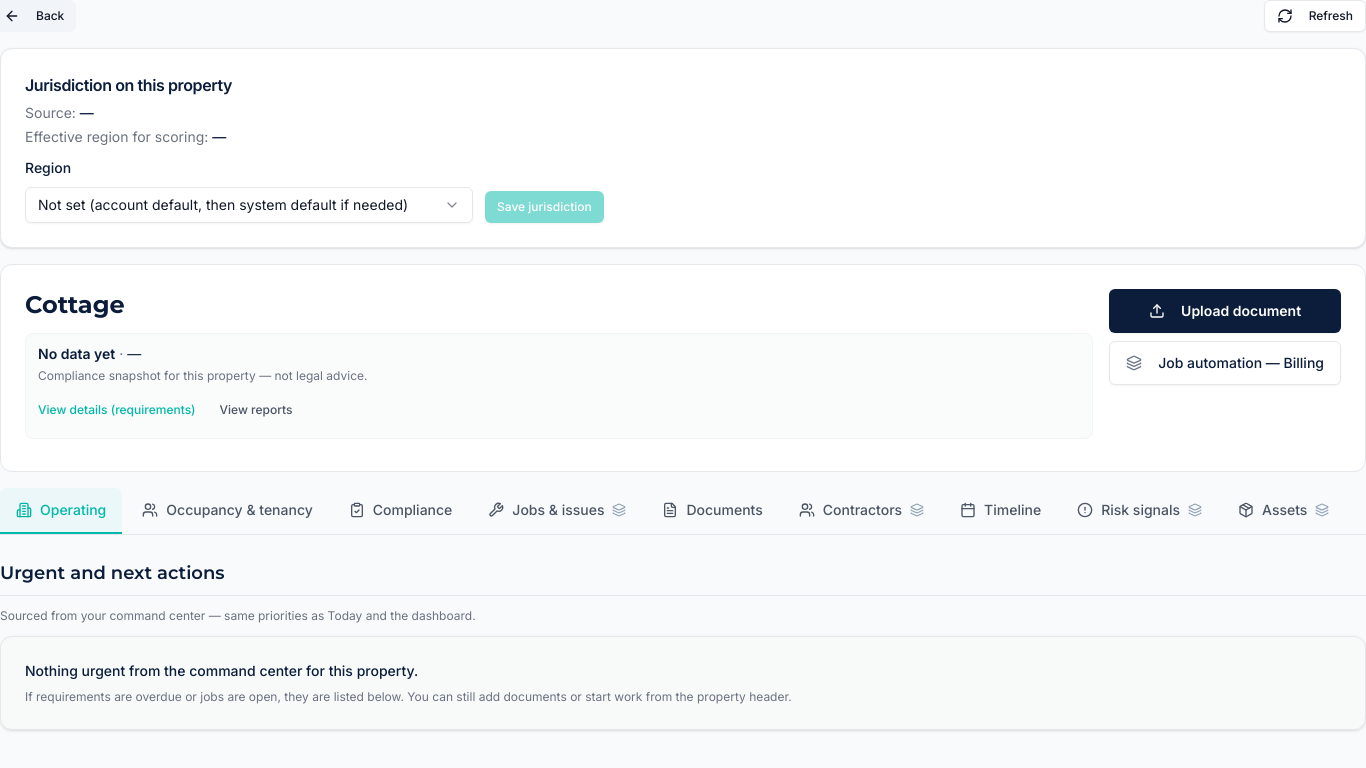
Test: PropertyDetailPage Valid KPI parity › Valid for scoring uses kpis.status_valid and matches VALID filter count (Property A pattern)
Click the button "Compliance" at (401, 511), box [333, 488, 468, 534]
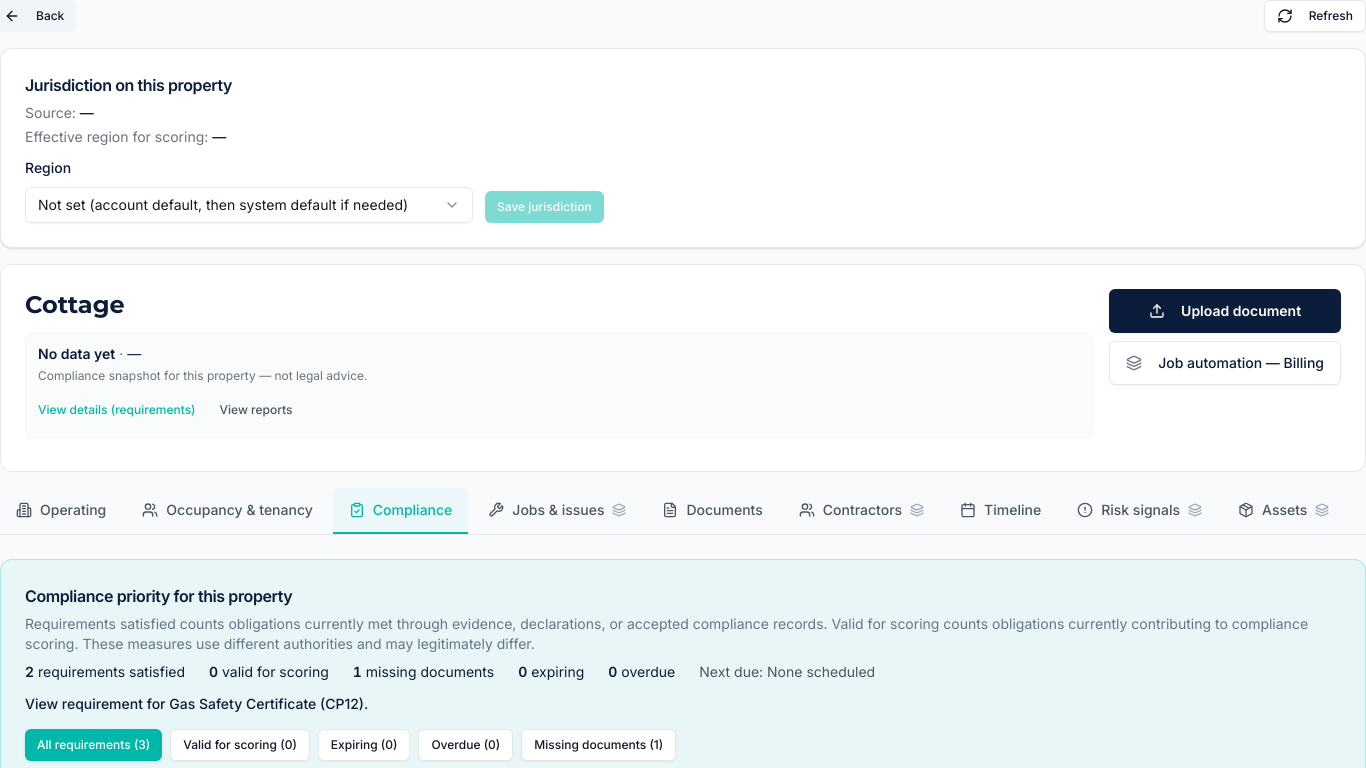
expect the button "Valid for scoring (0)" is shown: met
Click the button "Valid for scoring (0)" at (240, 745), box [170, 729, 310, 761]
(page scrolled)
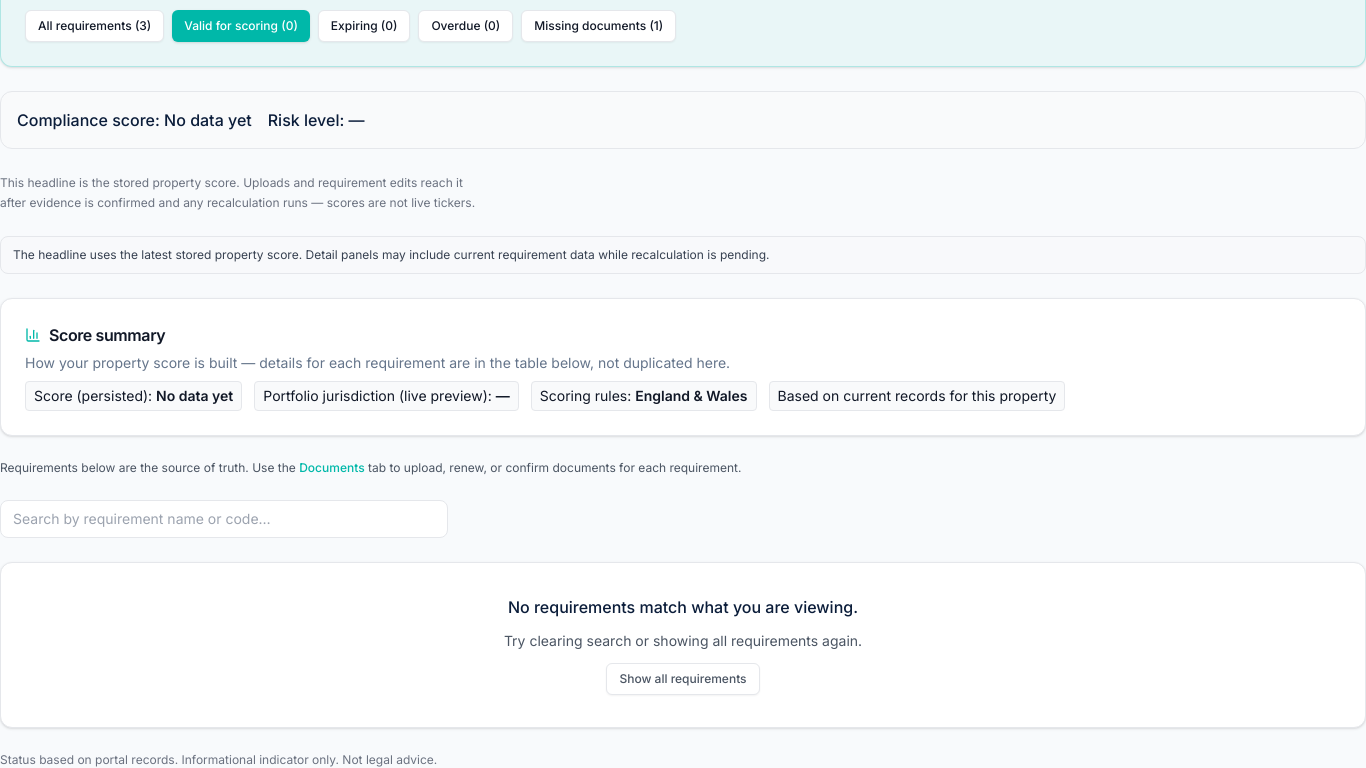
expect the text "No requirements match what you are viewing." is shown: met, box [508, 597, 858, 617]
